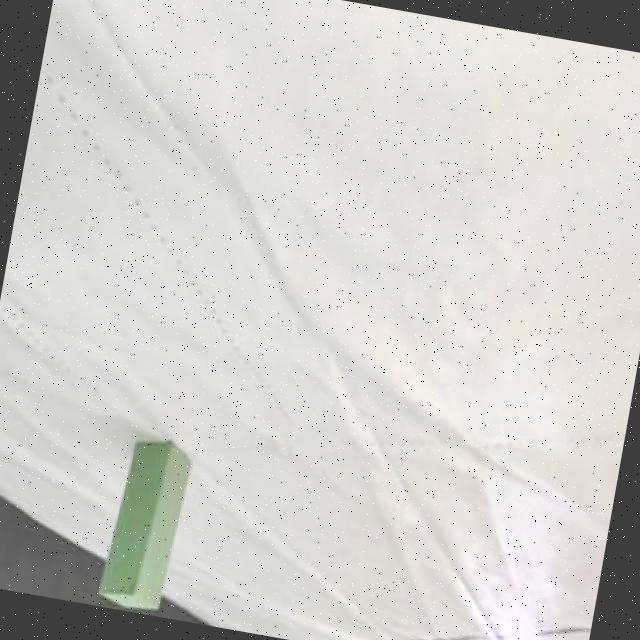greenbox: (100, 432, 192, 610)
